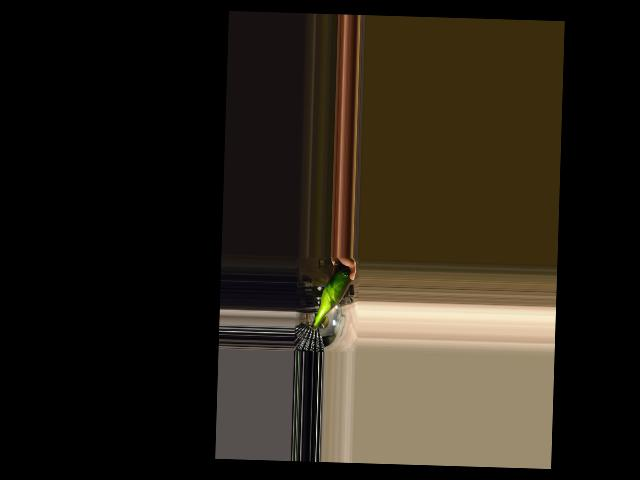beer: (309, 263, 353, 332)
